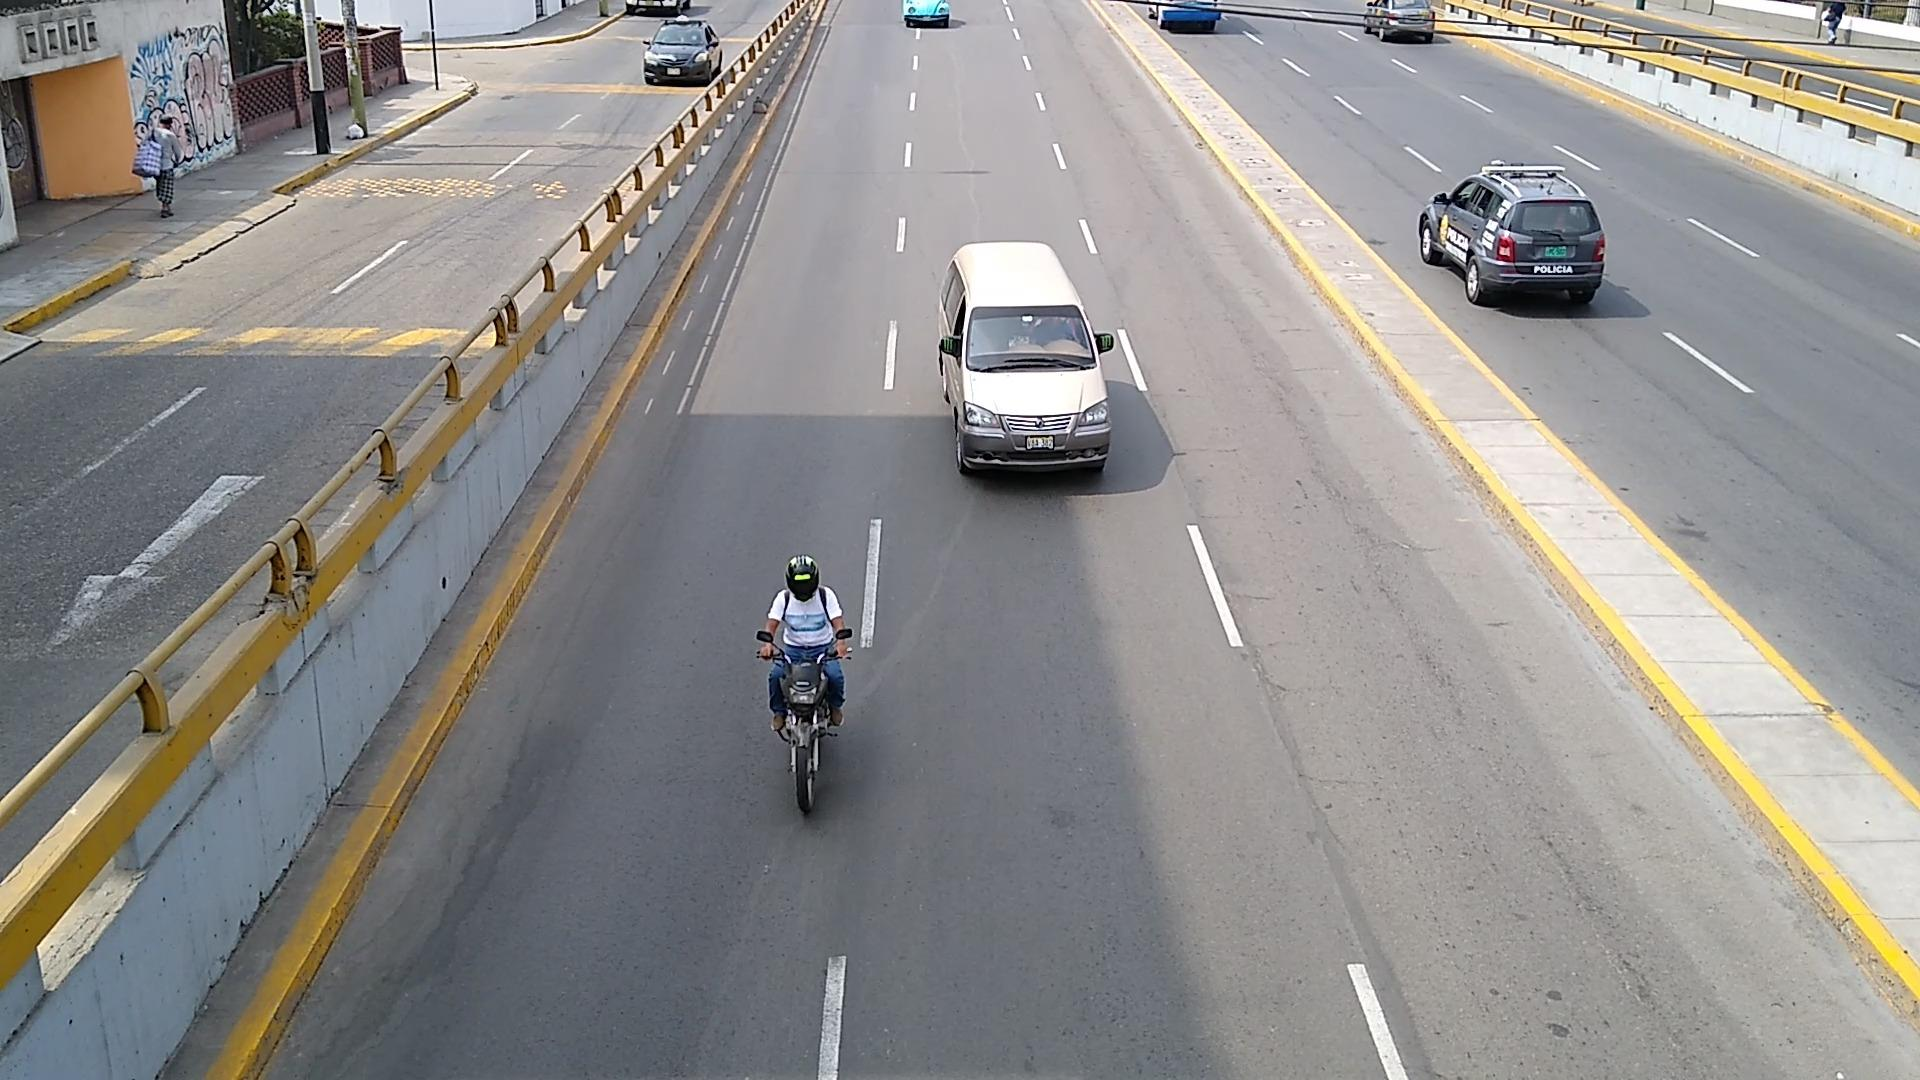car: (938, 244, 1114, 476), (1418, 161, 1605, 303), (645, 18, 720, 80), (1365, 0, 1436, 41)
motorcycle: (781, 661, 828, 814)
motorcyclist: (757, 559, 852, 735)
